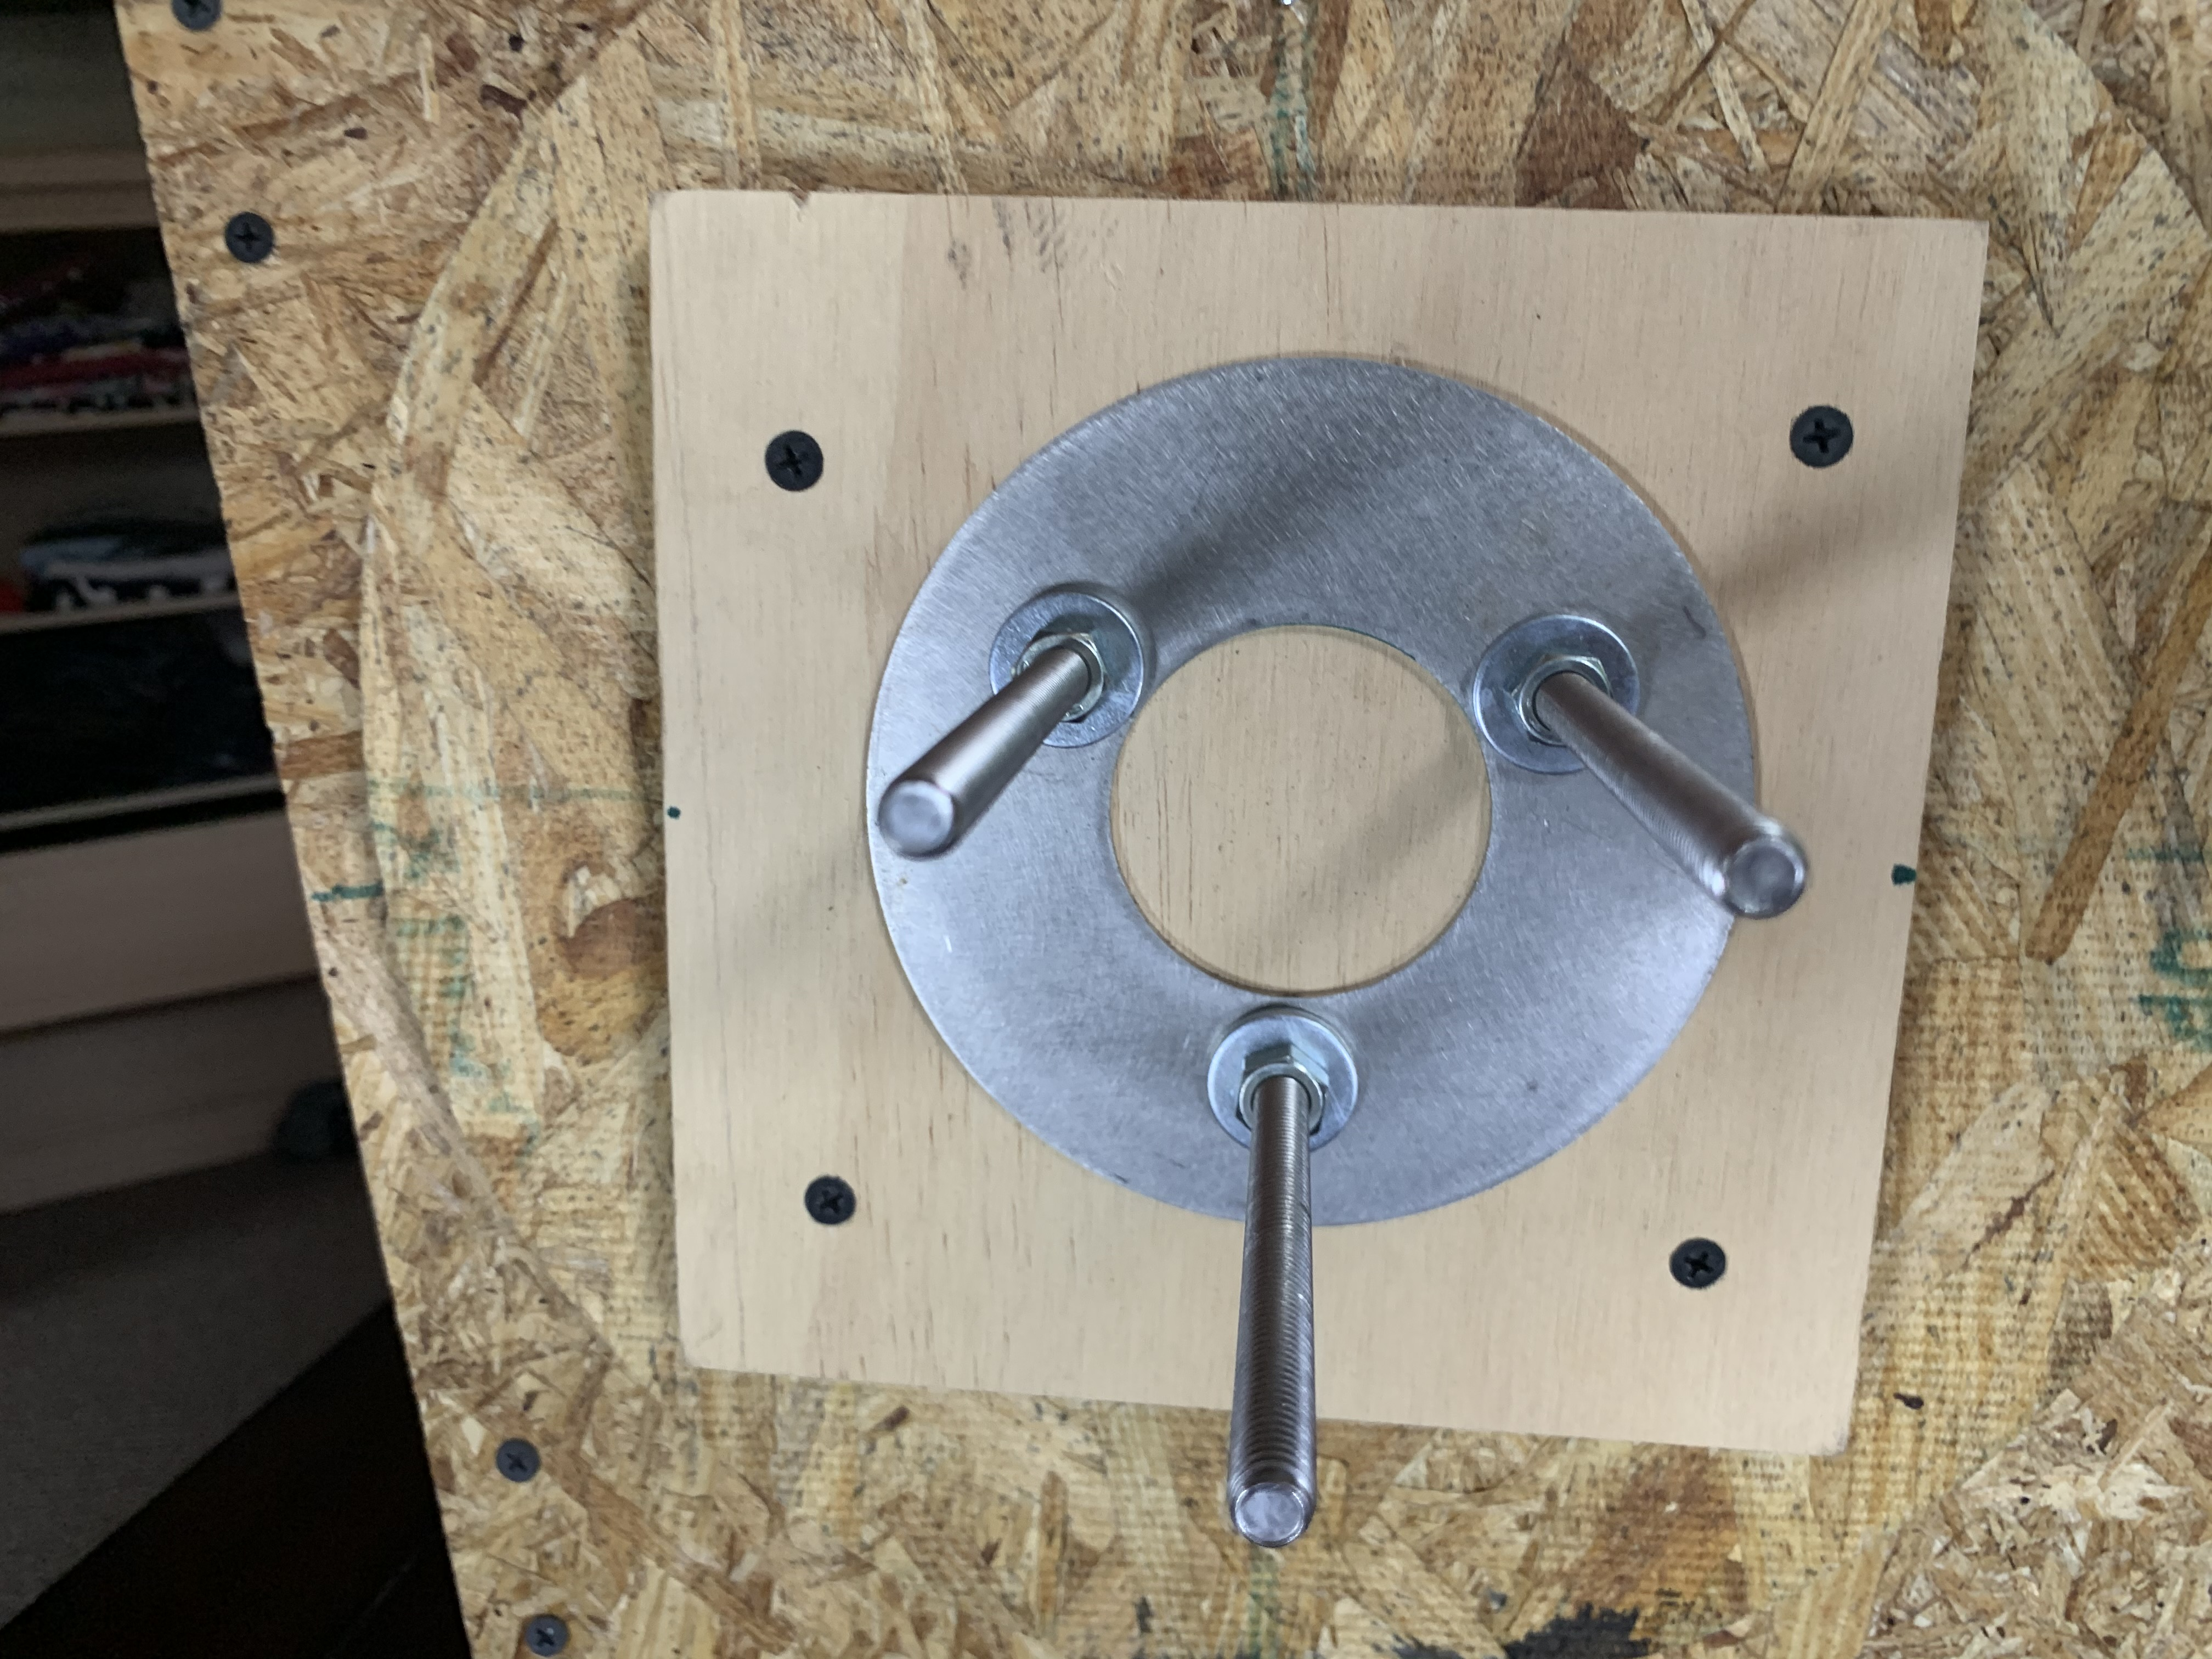bolt: (986, 586, 1153, 755), (1472, 608, 1641, 775), (1197, 1007, 1364, 1154)
